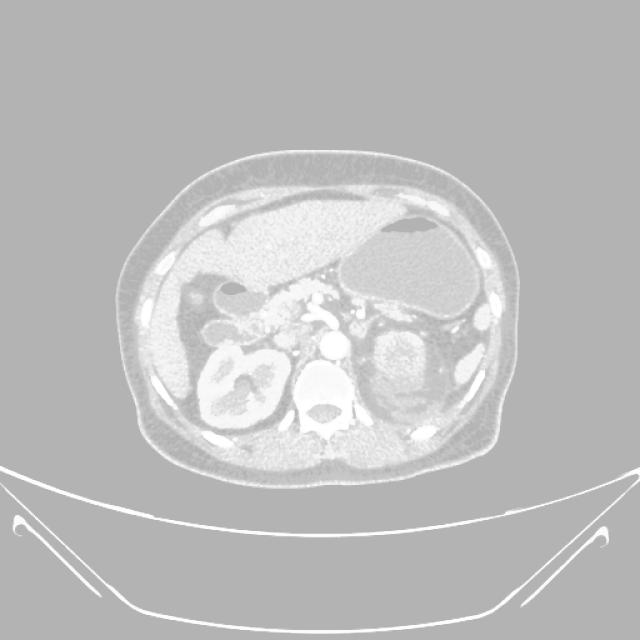TUMOR: (105, 197, 499, 395)
